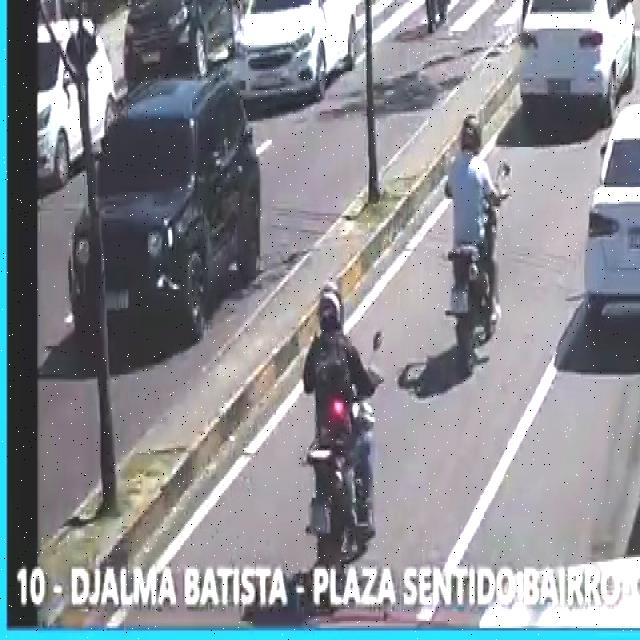biker: (294, 266, 384, 591), (439, 105, 507, 378), (411, 0, 456, 33)
car: (66, 78, 266, 334), (520, 0, 636, 121), (578, 99, 640, 317), (233, 0, 356, 100), (120, 0, 243, 76)
